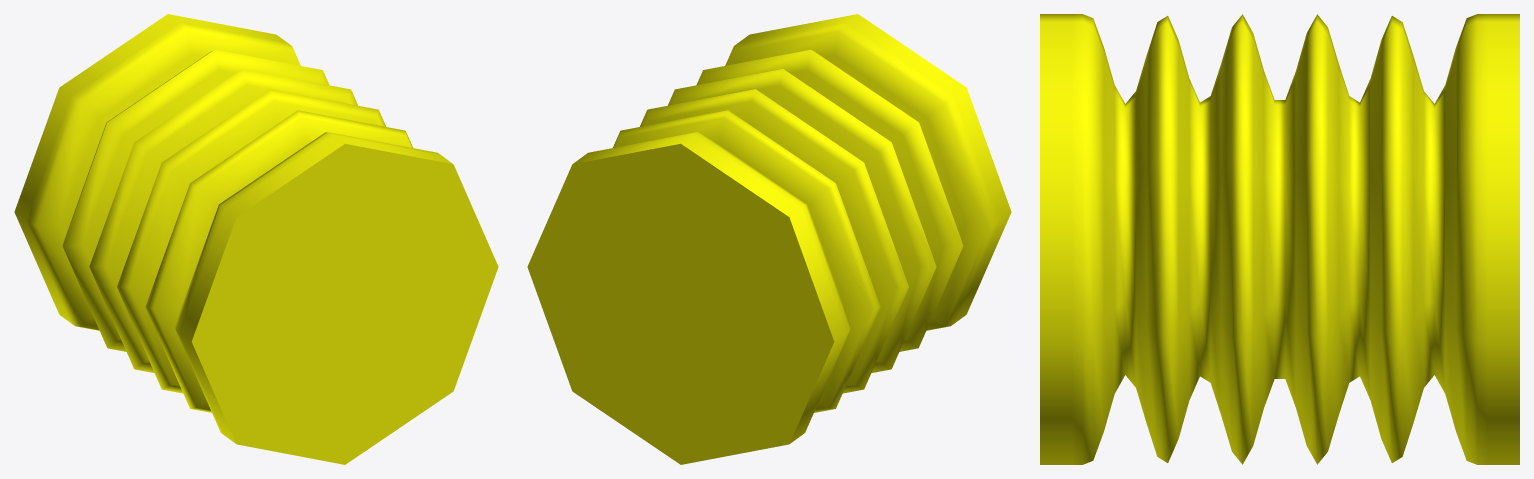
3 views of the same model, side by side, from view 1: azimuth 30°, elevation 25°; view 2: azimuth 150°, elevation 25°; view 3: azimuth 270°, elevation 25° (orthographic). The views are drawn at different scales.
Parts seen in each view (by area): view 1: Hose001; view 2: Hose001; view 3: Hose001.
Boxes of the visible parts, x1,y1,x2,y2 form: Hose001: [14, 14, 498, 464]; Hose001: [527, 14, 1011, 464]; Hose001: [1040, 14, 1519, 464].
Size of the model in its own units: 20 by 20 by 20.
